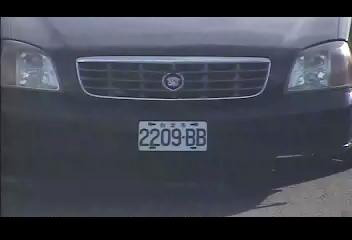plate: (137, 118, 209, 152)
